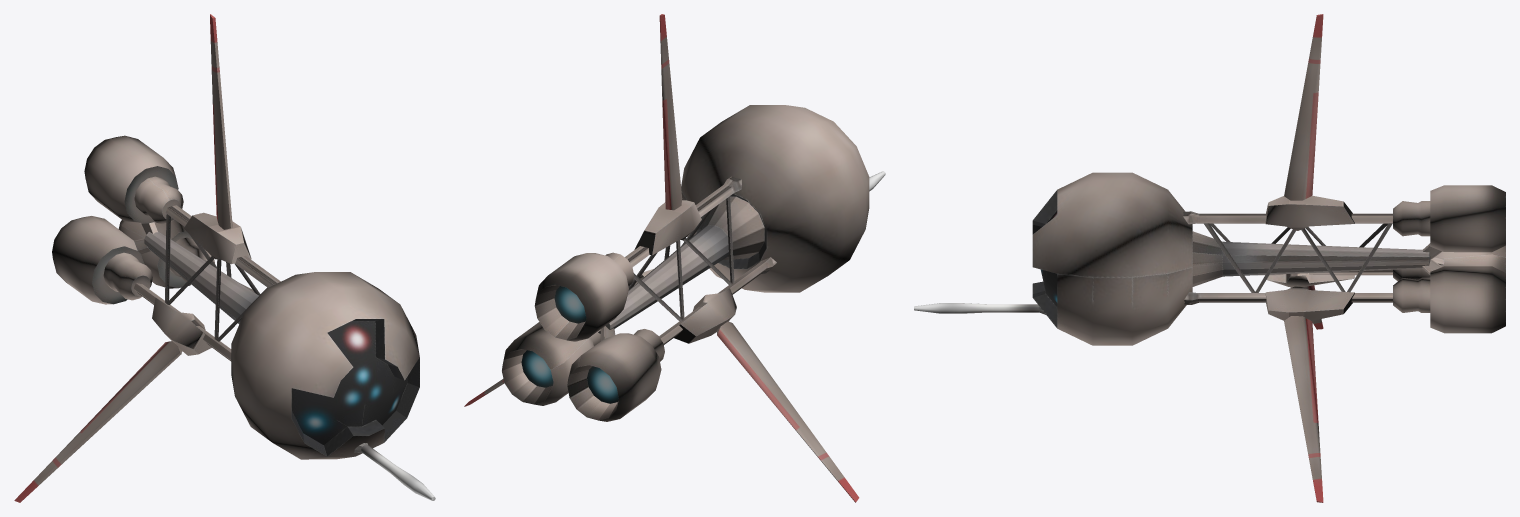
The model's file is probe.obj.
3 renders of one model, left to right at view 1: azimuth 30°, elevation 25°; view 2: azimuth 150°, elevation 25°; view 3: azimuth 270°, elevation 25°, orthographic. The views are drawn at different scales.
Parts seen in each view (by area): view 1: probe; view 2: probe; view 3: probe.
Boxes of the visible parts, x1,y1,x2,y2 form: probe: (14,14,435,502); probe: (464,14,885,502); probe: (914,14,1505,502).
Bounding box in the file's own units: 367 × 393 × 524.
Materials: 1 (1 with a texture image).
